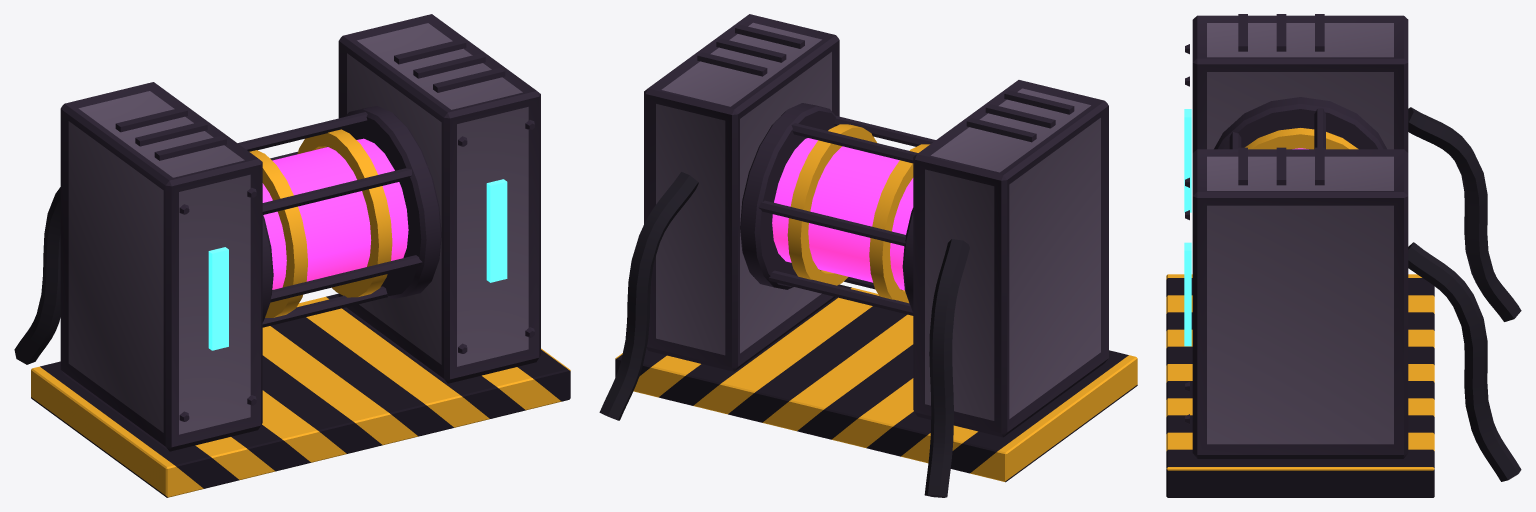
The model's file is generator__lower.glb.
The picture shows the model from 3 angles, left to right: view 1: azimuth 30°, elevation 25°; view 2: azimuth 150°, elevation 25°; view 3: azimuth 270°, elevation 25°; orthographic projection. The views are drawn at different scales.
Visible parts, largest first — view 1: Body; view 2: Body; view 3: Body.
Part boxes in pixels (<box>): Body: <box>14,14,570,497</box>; Body: <box>599,14,1137,497</box>; Body: <box>1166,14,1521,497</box>.
Size of the model in its own units: 0.96 by 0.701 by 0.7413.
